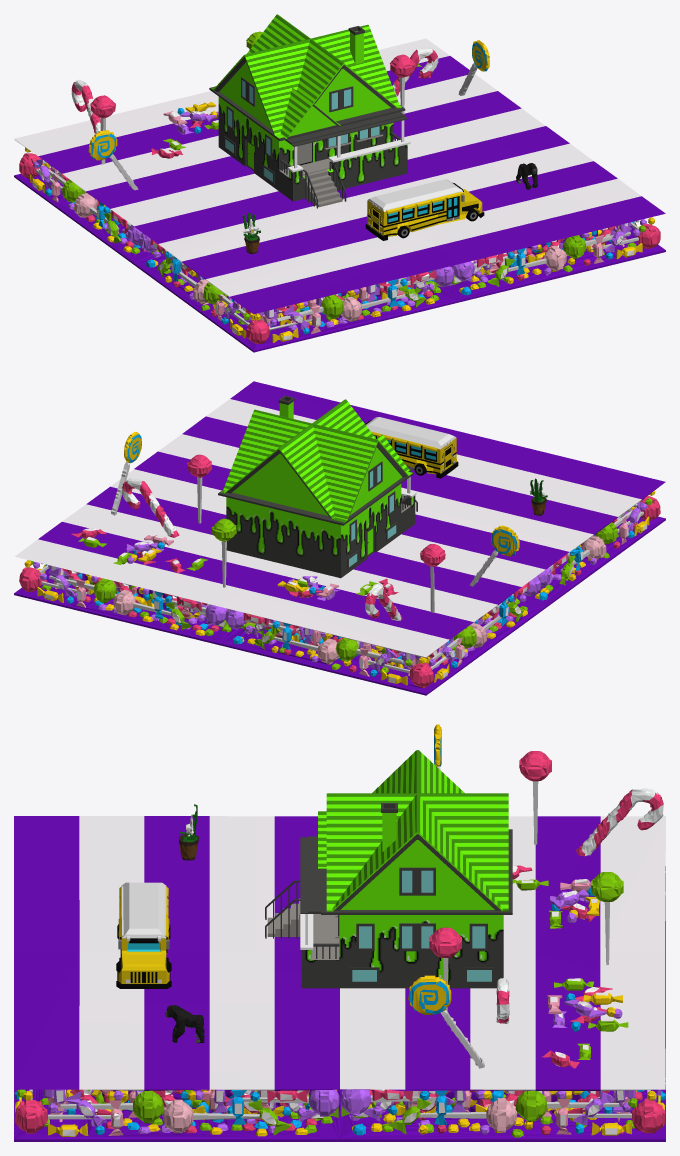
The picture shows the model from 3 angles, top to bottom: view 1: azimuth 30°, elevation 25°; view 2: azimuth 150°, elevation 25°; view 3: azimuth 270°, elevation 25°; orthographic projection. The views are drawn at different scales.
Parts seen in each view (by area): view 1: TERRAIN_CANDY, Cube.754, VEHICLES_SCHOOL_BUS, OBJRANDOM_MONJA BLANCA; view 2: TERRAIN_CANDY, Cube.754, VEHICLES_SCHOOL_BUS; view 3: TERRAIN_CANDY, Cube.754, VEHICLES_SCHOOL_BUS, ANIMAL_GORILA, OBJRANDOM_MONJA BLANCA.
Boxes of the visible parts, left/top/right/bottom form: TERRAIN_CANDY: left=14, top=31, right=665, bottom=352; Cube.754: left=209, top=14, right=410, bottom=208; VEHICLES_SCHOOL_BUS: left=365, top=179, right=484, bottom=240; OBJRANDOM_MONJA BLANCA: left=242, top=212, right=260, bottom=253; TERRAIN_CANDY: left=14, top=381, right=665, bottom=695; Cube.754: left=218, top=395, right=417, bottom=578; VEHICLES_SCHOOL_BUS: left=365, top=417, right=458, bottom=478; TERRAIN_CANDY: left=14, top=724, right=665, bottom=1141; Cube.754: left=265, top=750, right=512, bottom=988; VEHICLES_SCHOOL_BUS: left=116, top=882, right=171, bottom=988; ANIMAL_GORILA: left=165, top=1005, right=204, bottom=1043; OBJRANDOM_MONJA BLANCA: left=179, top=804, right=198, bottom=860.
Bounding box in the file's own units: 4059 × 1561 × 4000.
Materials: 32 (3 with a texture image).
